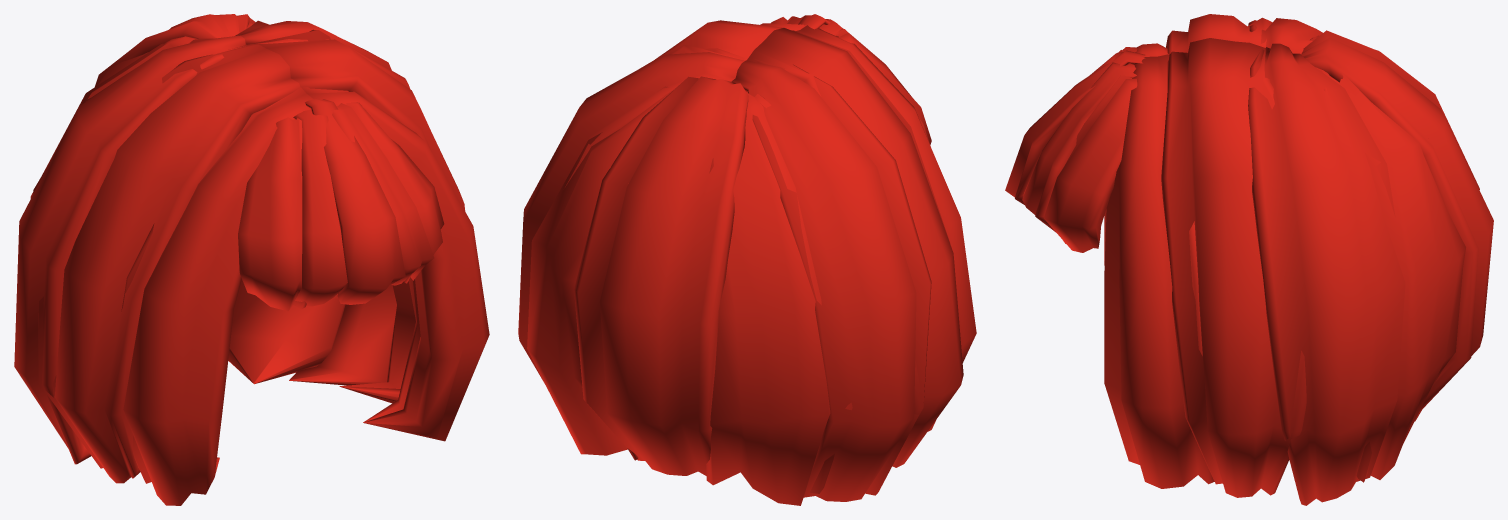
Rendered from hair-female-_005.fbx.
The picture shows the model from 3 angles, left to right: view 1: azimuth 30°, elevation 25°; view 2: azimuth 150°, elevation 25°; view 3: azimuth 270°, elevation 25°; orthographic projection. The views are drawn at different scales.
Visible parts, largest first — view 1: side, front, back; view 2: side, back, front; view 3: side, front, back.
Part boxes in pixels (x1,y1,x2,y2): side: (14, 18, 489, 505); front: (238, 98, 444, 311); back: (95, 14, 249, 86); side: (518, 20, 976, 505); back: (574, 76, 748, 475); front: (771, 14, 931, 146); side: (1104, 14, 1465, 505); front: (1005, 47, 1145, 252); back: (1301, 30, 1493, 410).
Bounding box in the file's own units: 23.33 × 22.36 × 25.08.
